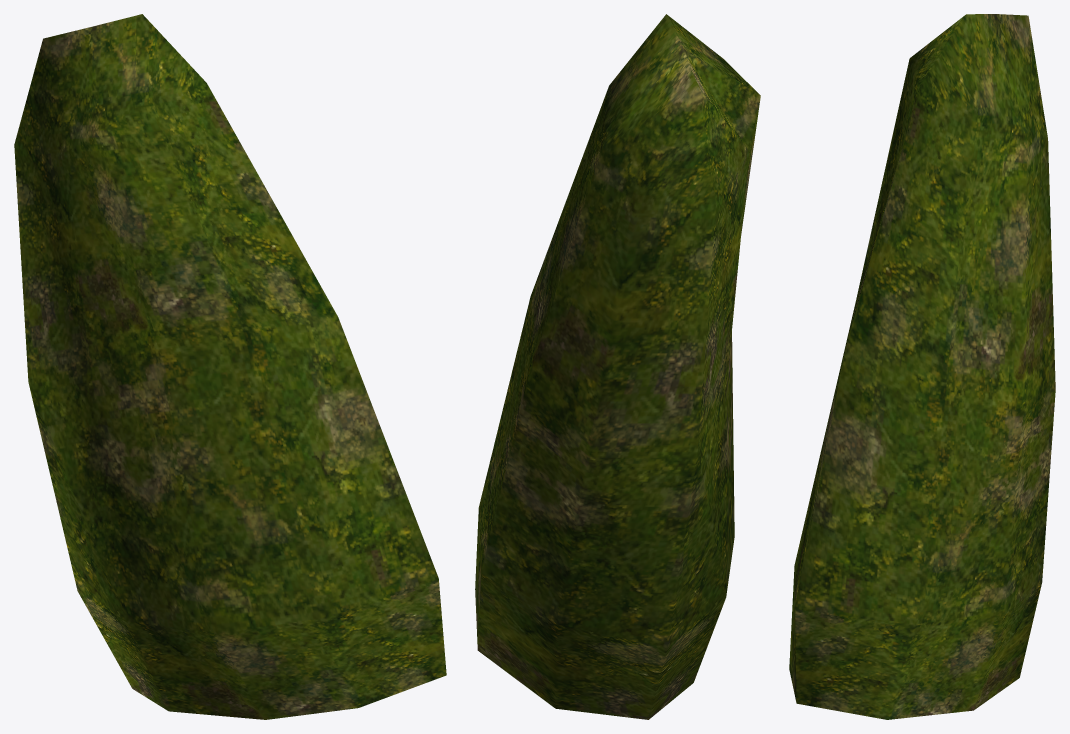
File: OVERHILL_A_01_BR_ROCK200.fbx
The picture shows the model from 3 angles, left to right: view 1: azimuth 30°, elevation 25°; view 2: azimuth 150°, elevation 25°; view 3: azimuth 270°, elevation 25°; orthographic projection. The views are drawn at different scales.
Parts seen in each view (by area): view 1: OVERHILL_A_01_BR_ROCK200; view 2: OVERHILL_A_01_BR_ROCK200; view 3: OVERHILL_A_01_BR_ROCK200.
Boxes of the visible parts, <box> form: OVERHILL_A_01_BR_ROCK200: <box>14,14,446,719</box>; OVERHILL_A_01_BR_ROCK200: <box>475,14,760,719</box>; OVERHILL_A_01_BR_ROCK200: <box>789,14,1055,719</box>.
Bounding box in the file's own units: 17630 × 36182 × 13845.
Materials: 1 (1 with a texture image).
